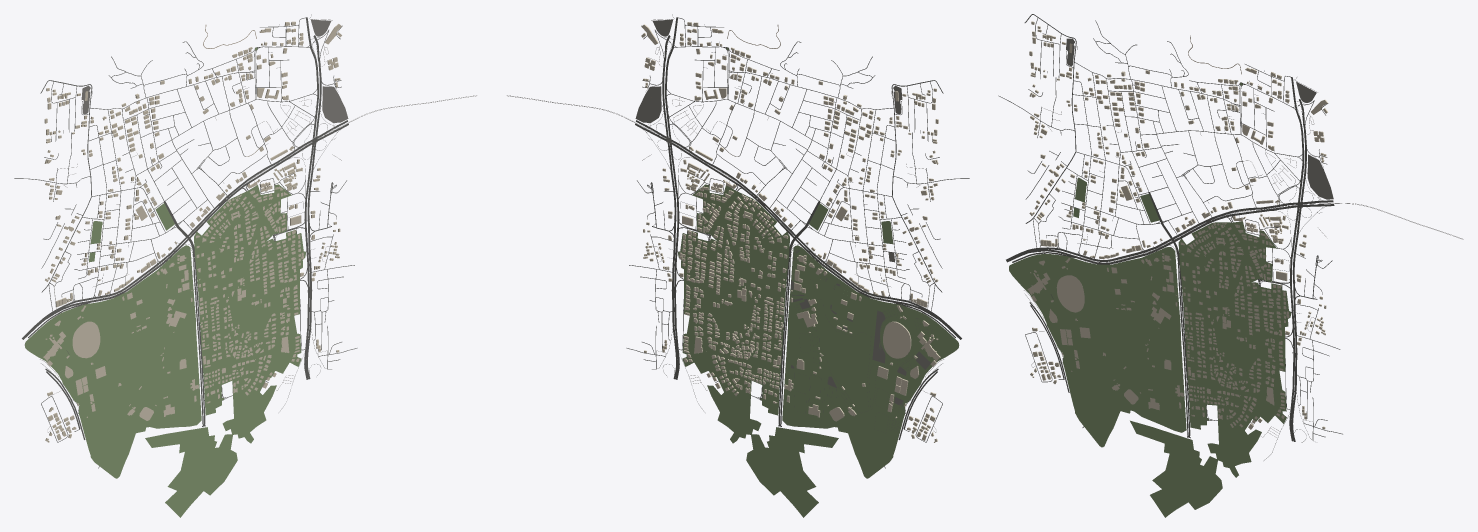
The model's file is tabarbour_1795_1599.glb.
3 views of the same model, side by side, from view 1: azimuth 30°, elevation 25°; view 2: azimuth 150°, elevation 25°; view 3: azimuth 330°, elevation 25° (orthographic).
Visible parts, largest first — view 1: Landcover way/624999828, Landcover way/972338370, Landcover way/617794029, Building_relation/16787334, Infrastructure 200269929.001, Road شارع الشهيد, Landcover way/617794032; view 2: Infrastructure 624999828.001, Infrastructure 972338370.001, Infrastructure 617794029.001, Building_relation/16787334, Infrastructure 200269929.001, Road شارع الشهيد, Infrastructure 617794032.001; view 3: Landcover way/624999828, Landcover way/972338370, Landcover way/617794029, Building_relation/16787334, Infrastructure 200269929.001, Road شارع الشهيد, Landcover way/617794032.
Part boxes in pixels (x1,y1,x2,y2): Landcover way/624999828: (145,184,306,517); Landcover way/972338370: (25,245,201,478); Landcover way/617794029: (113,299,167,410); Building_relation/16787334: (72,321,100,358); Infrastructure 200269929.001: (322,86,348,122); Road شارع الشهيد: (96,140,311,298); Landcover way/617794032: (159,374,175,422); Infrastructure 624999828.001: (678,184,838,517); Infrastructure 972338370.001: (782,245,958,478); Infrastructure 617794029.001: (816,299,870,411); Building_relation/16787334: (883,321,911,358); Infrastructure 200269929.001: (635,86,661,122); Road شارع الشهيد: (672,140,887,298); Infrastructure 617794032.001: (808,374,824,421); Landcover way/624999828: (1130,221,1291,517); Landcover way/972338370: (1009,247,1186,447); Landcover way/617794029: (1097,289,1152,384); Building_relation/16787334: (1056,275,1084,312); Infrastructure 200269929.001: (1307,154,1333,199); Road شارع الشهيد: (1081,202,1296,261); Landcover way/617794032: (1144,367,1160,414).
Size of the model in its own units: 2983 by 2995 by 17.3.
